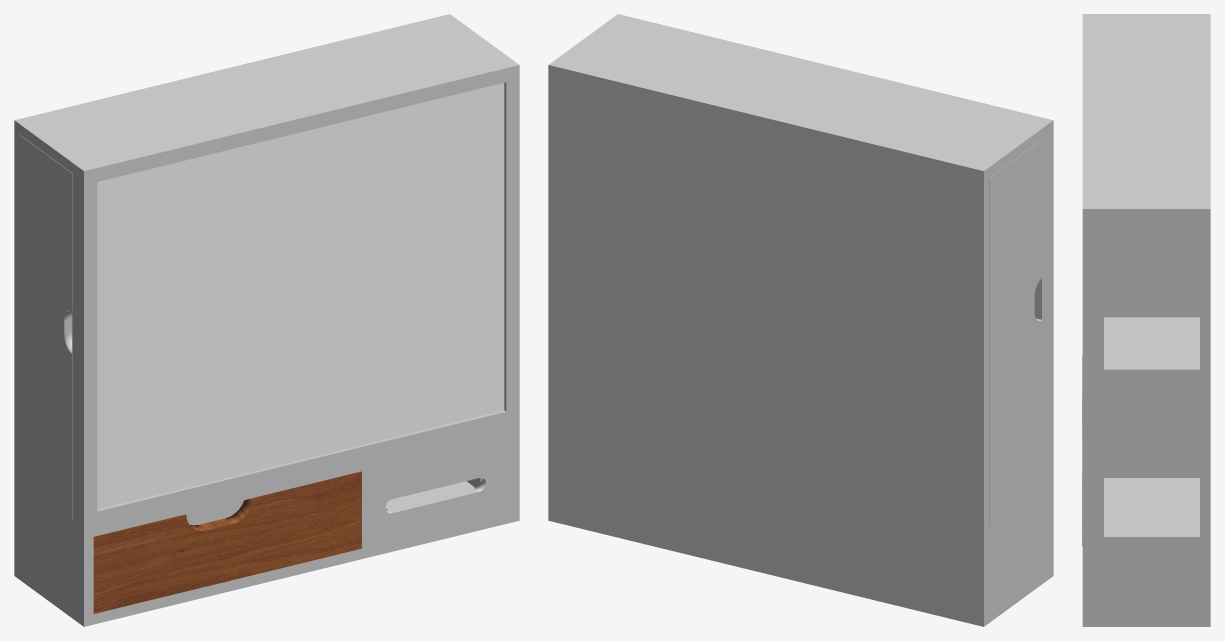
The model's file is wall mirror.glb.
The picture shows the model from 3 angles, left to right: view 1: azimuth 30°, elevation 25°; view 2: azimuth 150°, elevation 25°; view 3: azimuth 270°, elevation 25°; orthographic projection. The views are drawn at different scales.
Parts seen in each view (by area): view 1: G-__557319, G-OuterShell, G-__557328, G-__557301, G-__557310; view 2: G-OuterShell, G-__557310, G-__557328; view 3: G-OuterShell, G-__557328.
Boxes of the visible parts, x1,y1,x2,y2 form: G-__557319: (97,83,504,509); G-OuterShell: (14,14,519,626); G-__557328: (72,56,519,528); G-__557301: (93,471,361,613); G-__557310: (20,135,72,519); G-OuterShell: (548,22,1053,626); G-__557310: (989,139,1042,524); G-__557328: (606,14,1053,485); G-OuterShell: (1082,14,1210,626); G-__557328: (1082,14,1103,536).
Bounding box in the file's own units: 0.6505 × 0.65 × 0.1804.
Materials: 3 (1 with a texture image).
